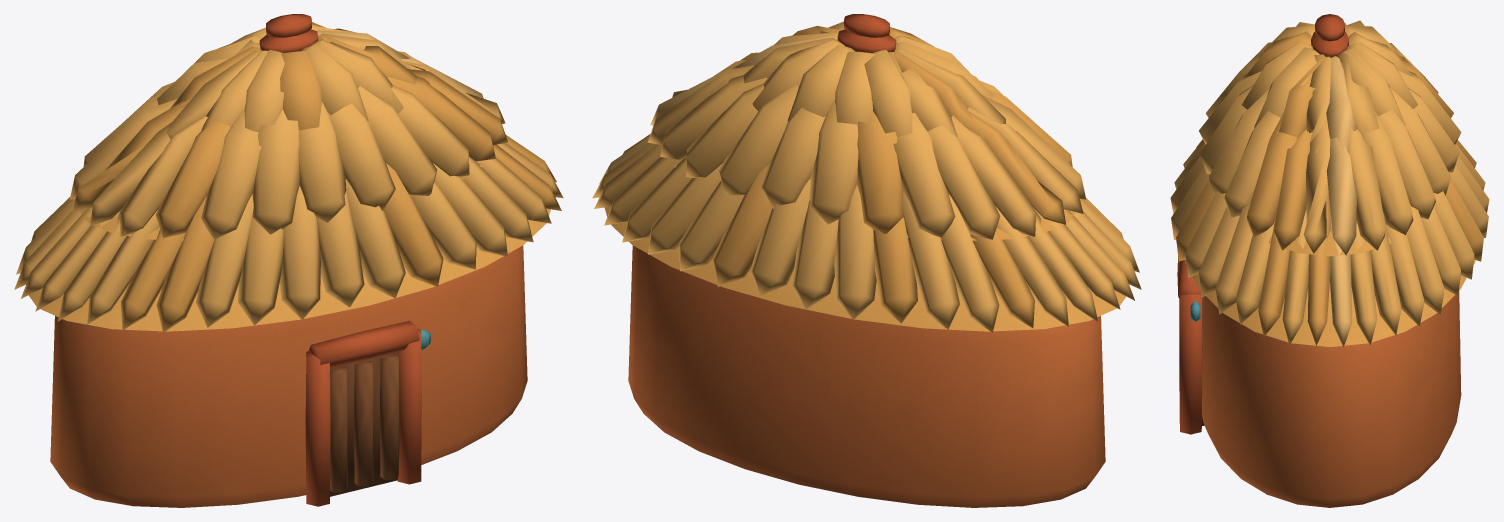
Rendered from house_v2.glb.
3 renders of one model, left to right at view 1: azimuth 30°, elevation 25°; view 2: azimuth 150°, elevation 25°; view 3: azimuth 270°, elevation 25°, orthographic. The views are drawn at different scales.
Parts seen in each view (by area): view 1: HouseV2; view 2: HouseV2; view 3: HouseV2.
Boxes of the visible parts, <box> form: HouseV2: <box>14,14,563,507</box>; HouseV2: <box>592,14,1141,507</box>; HouseV2: <box>1170,14,1489,507</box>.
Size of the model in its own units: 7.09 by 5.44 by 4.04.
Materials: 1 (1 with a texture image).
